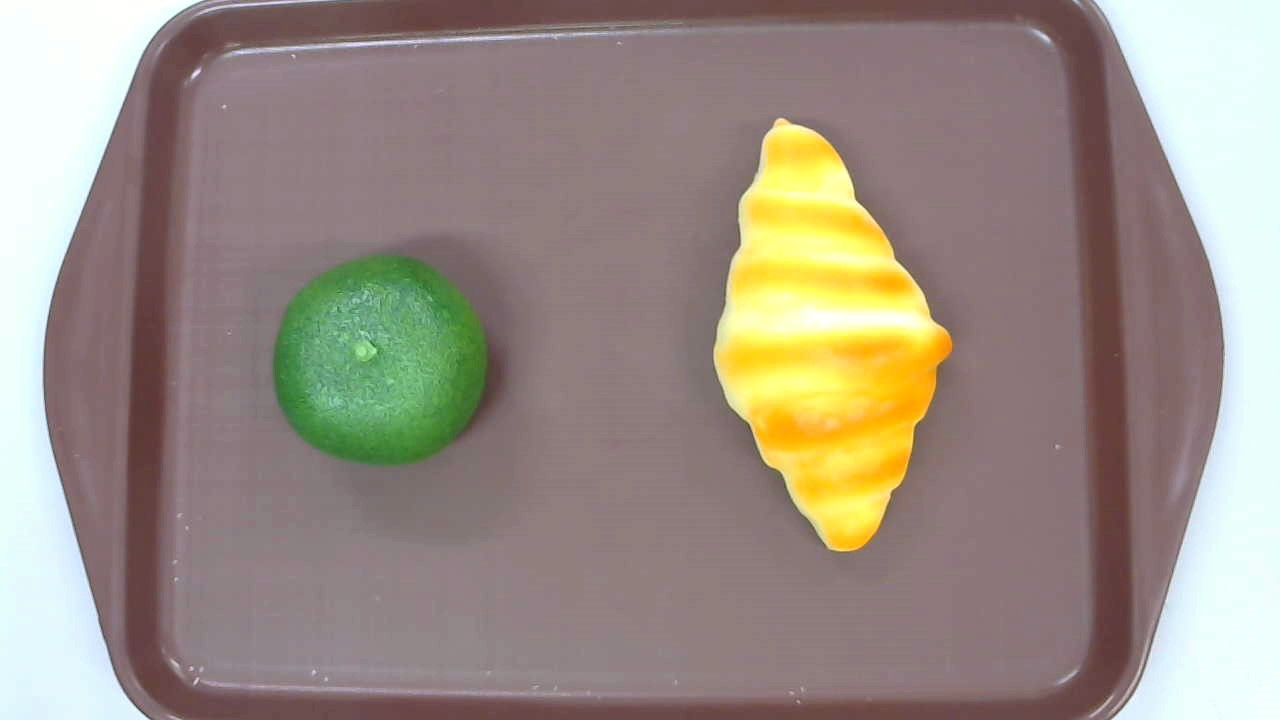croissant: (712, 117, 952, 551)
green orange: (274, 255, 486, 466)
